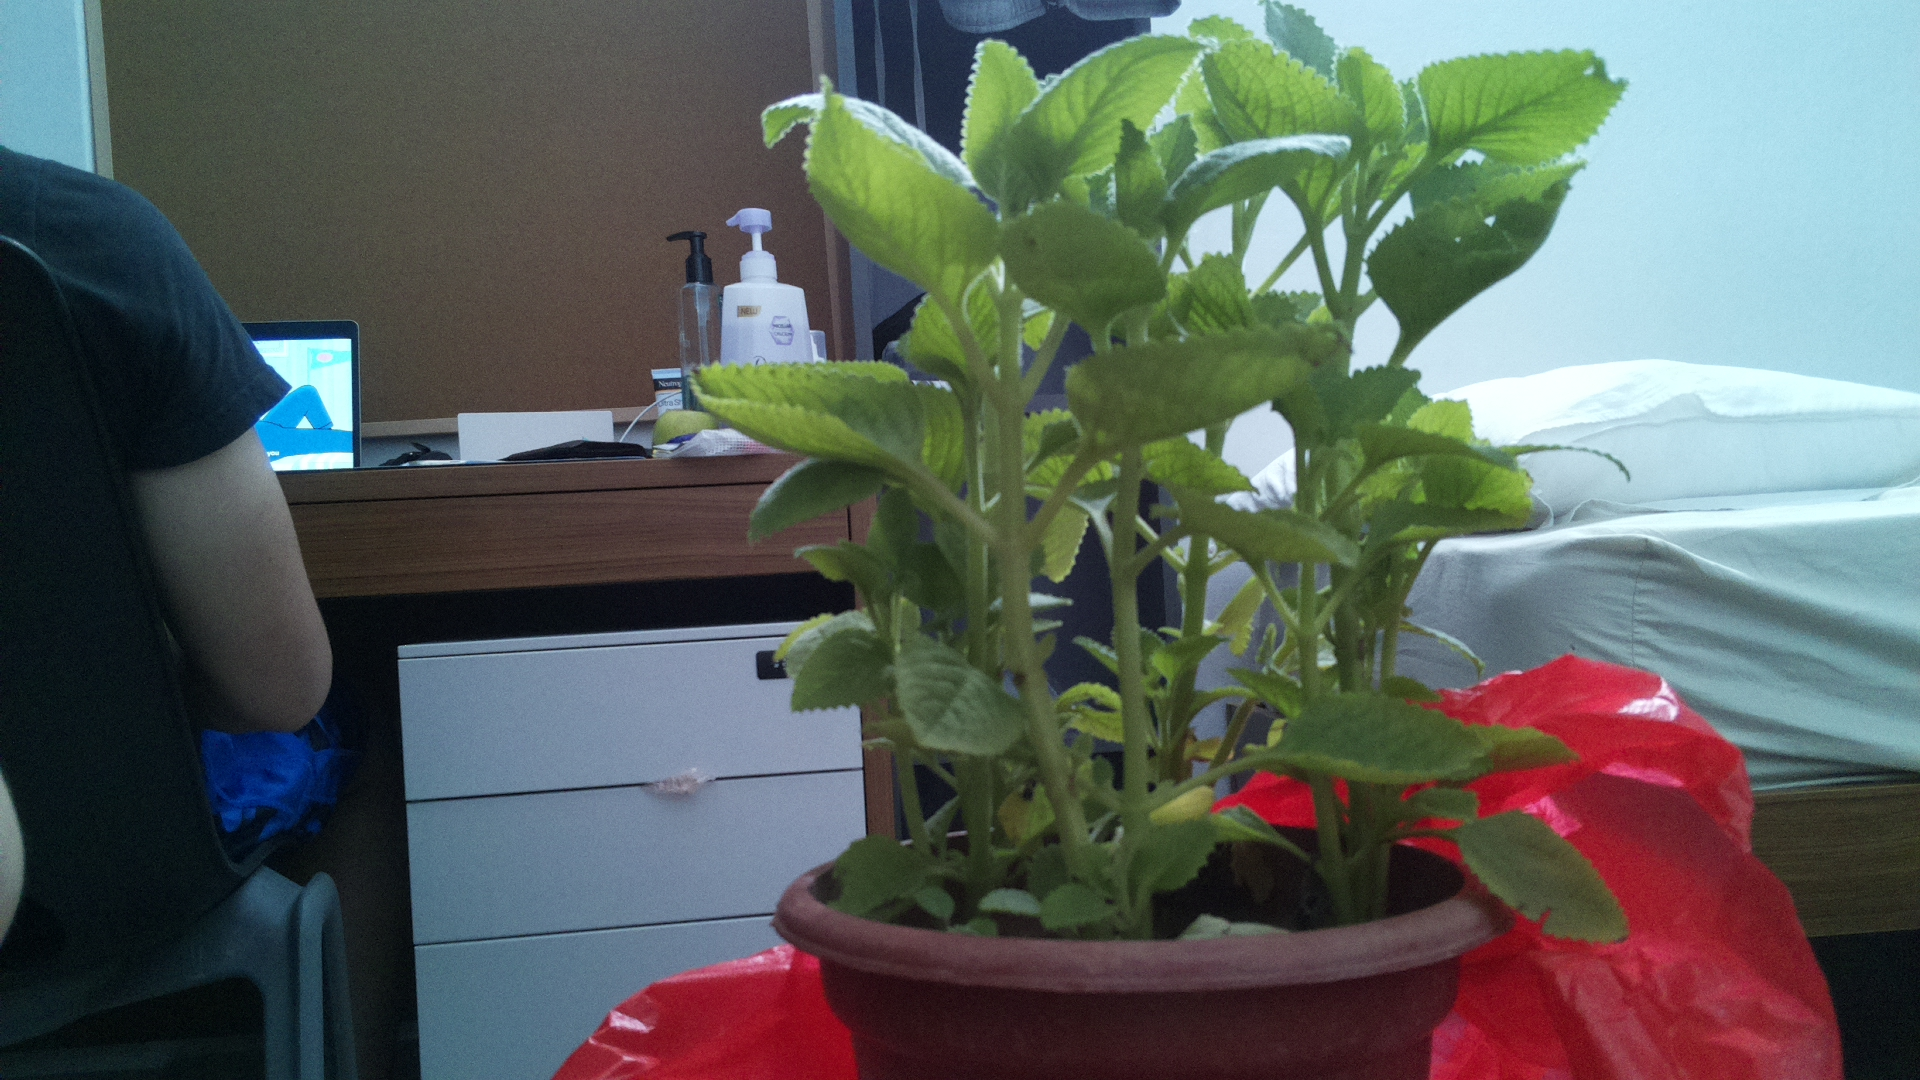leaf: (1367, 158, 1604, 343), (1071, 315, 1364, 444), (818, 107, 996, 318), (676, 357, 934, 491), (1204, 18, 1364, 215), (1015, 36, 1208, 194), (1444, 810, 1643, 957), (1411, 53, 1633, 166), (1261, 694, 1495, 782), (895, 622, 1033, 770), (957, 38, 1055, 214), (1199, 506, 1371, 591), (1375, 405, 1520, 483), (781, 626, 903, 717), (1105, 111, 1179, 247), (1377, 501, 1540, 549), (835, 839, 938, 914), (1149, 442, 1273, 502), (1145, 808, 1225, 891), (1033, 495, 1095, 593), (986, 789, 1064, 858), (1035, 877, 1124, 934), (804, 537, 889, 587), (973, 884, 1040, 926), (1064, 709, 1133, 749), (1062, 678, 1124, 713)
